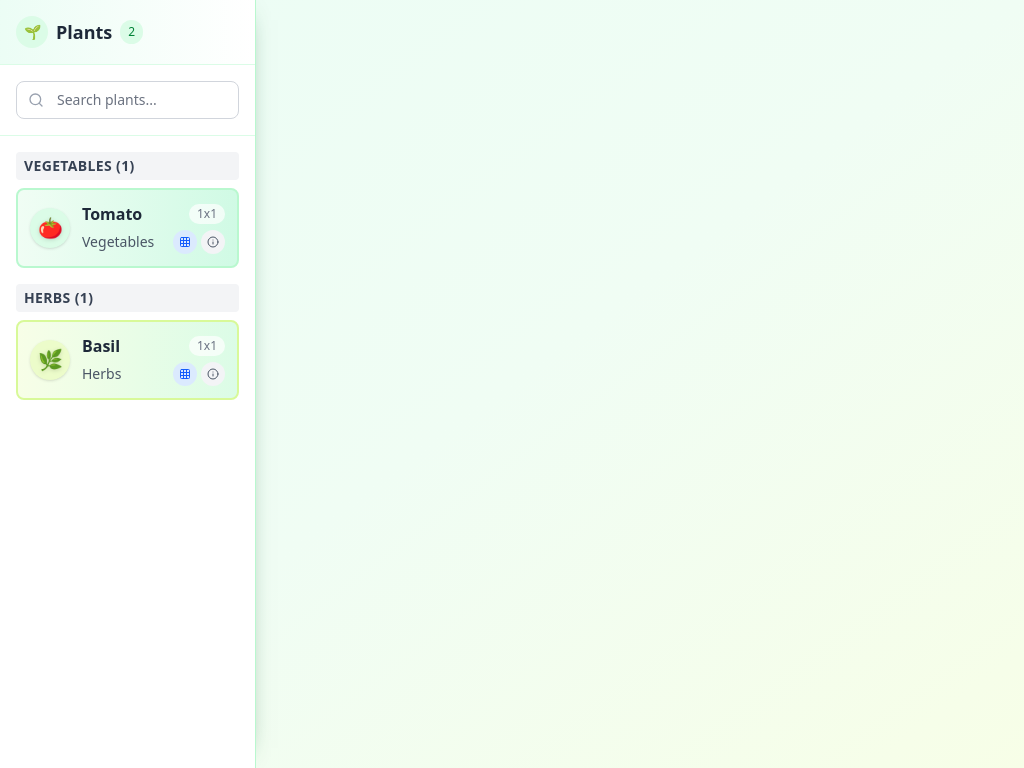
Test: Plant library details › supports short records with missing optional details
The width and height of the screenshot is (1024, 768).
Step 1. Click the button named "View information for Basil" → point(213, 374), box [201,362,225,386]
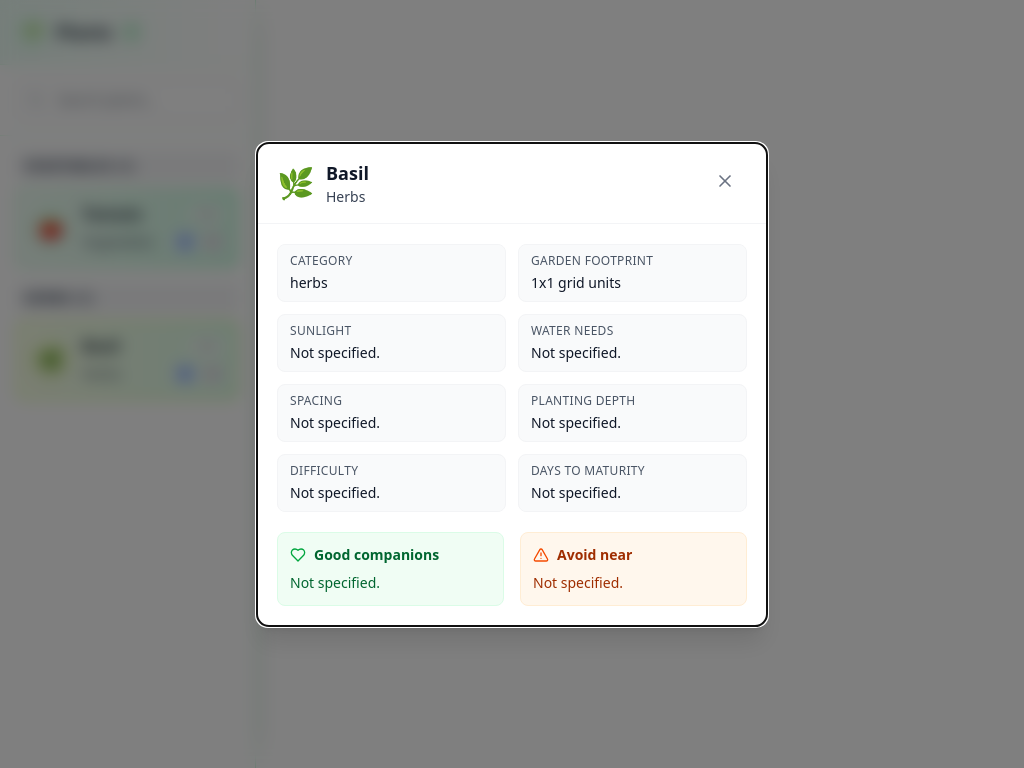
Now the text "Not specified." below "Sunlight" is shown, box [290,342,380,362]
Step 2. Click the button named "Close plant details" → point(725, 180), box [703,158,747,202]
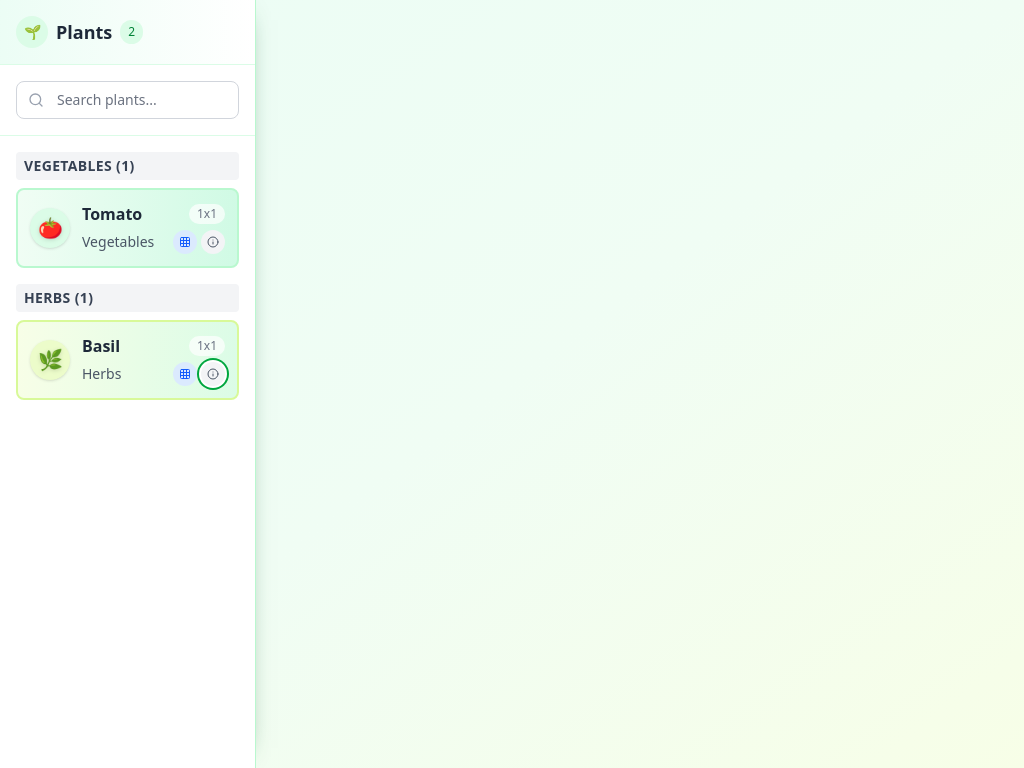
Now the dialog is gone
